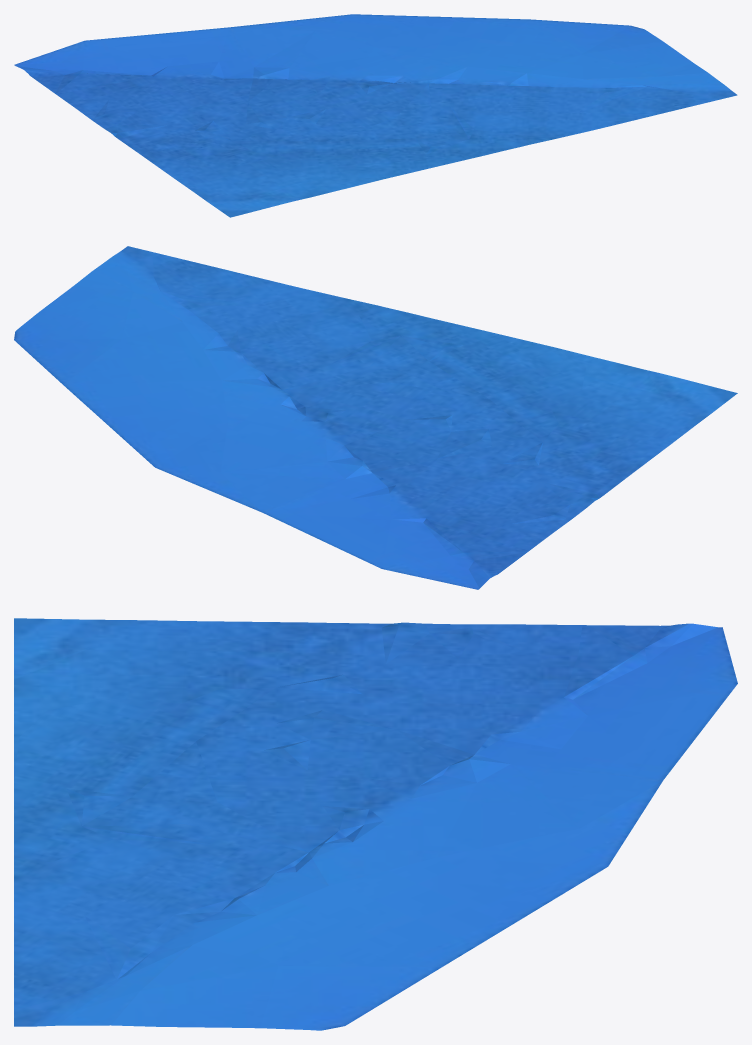
The picture shows the model from 3 angles, top to bottom: view 1: azimuth 30°, elevation 25°; view 2: azimuth 150°, elevation 25°; view 3: azimuth 270°, elevation 25°; orthographic projection. The views are drawn at different scales.
Bounding box in the file's own units: 26.11 × 0.3193 × 19.67.
Materials: 2 (2 with a texture image).
